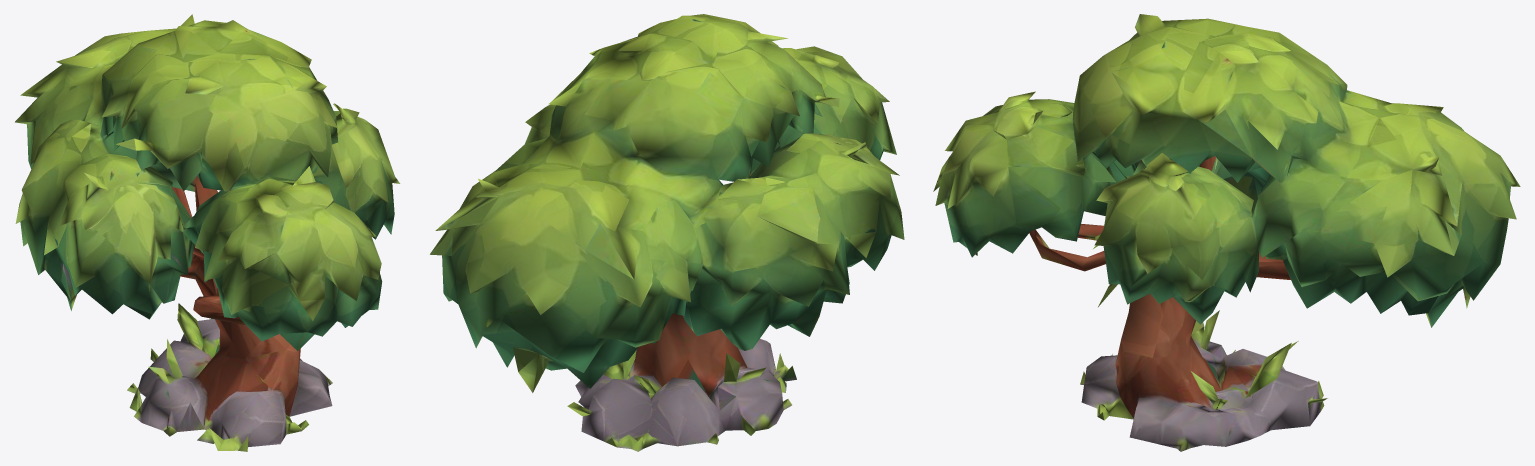
Rendered from tree-round.glb.
3 renders of one model, left to right at view 1: azimuth 30°, elevation 25°; view 2: azimuth 150°, elevation 25°; view 3: azimuth 270°, elevation 25°, orthographic. The views are drawn at different scales.
Parts seen in each view (by area): view 1: tree_round; view 2: tree_round; view 3: tree_round.
Boxes of the visible parts, left/top/right/bottom form: tree_round: left=15, top=14, right=400, bottom=451; tree_round: left=430, top=14, right=904, bottom=451; tree_round: left=933, top=14, right=1520, bottom=451.
Bounding box in the file's own units: 3.51 × 3.5 × 5.11.
1 material, 1 textured.
